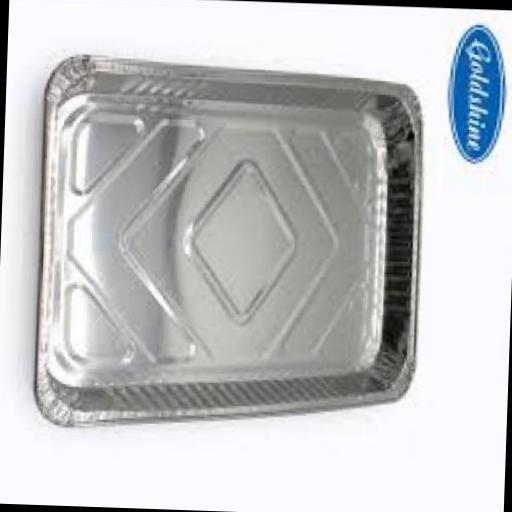metal: (33, 50, 430, 436)
